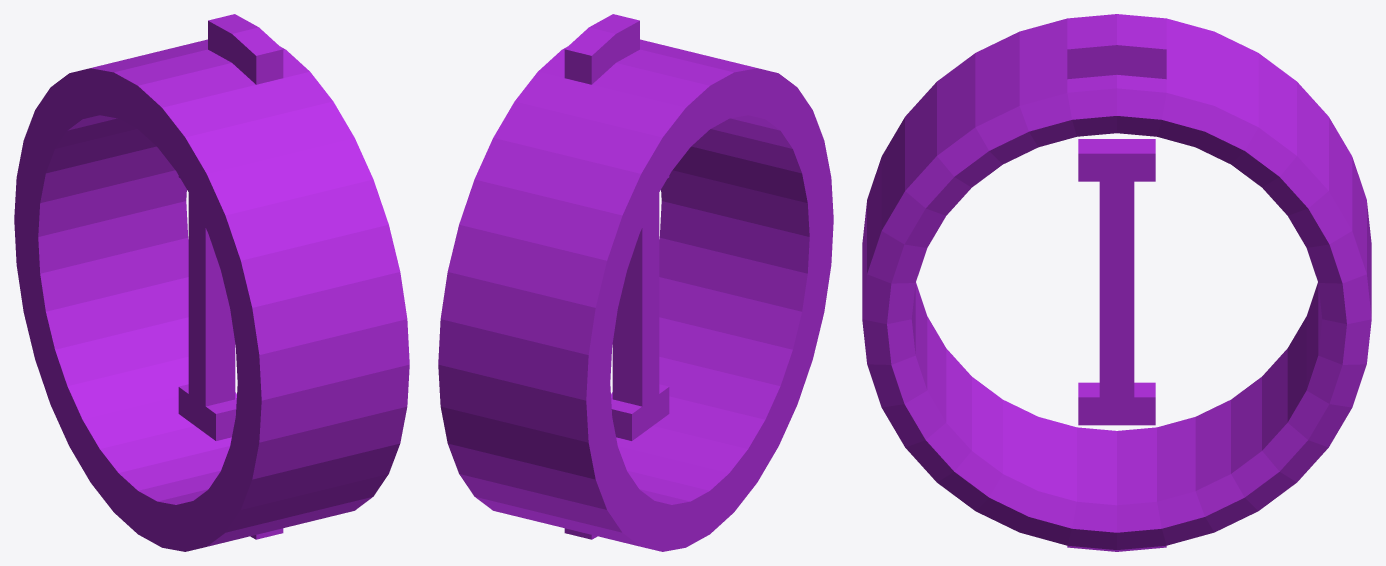
The picture shows the model from 3 angles, left to right: view 1: azimuth 30°, elevation 25°; view 2: azimuth 150°, elevation 25°; view 3: azimuth 270°, elevation 25°; orthographic projection. The views are drawn at different scales.
Visible parts, largest first — view 1: 円柱, 1; view 2: 円柱, 1; view 3: 円柱, 1.
Boxes of the visible parts, x1,y1,x2,y2 form: 円柱: (14,14,409,551); 1: (178,176,236,440); 円柱: (438,14,833,551); 1: (611,176,669,440); 円柱: (862,14,1371,551); 1: (1078,139,1155,425).
Size of the model in its own units: 144 by 430 by 392.
